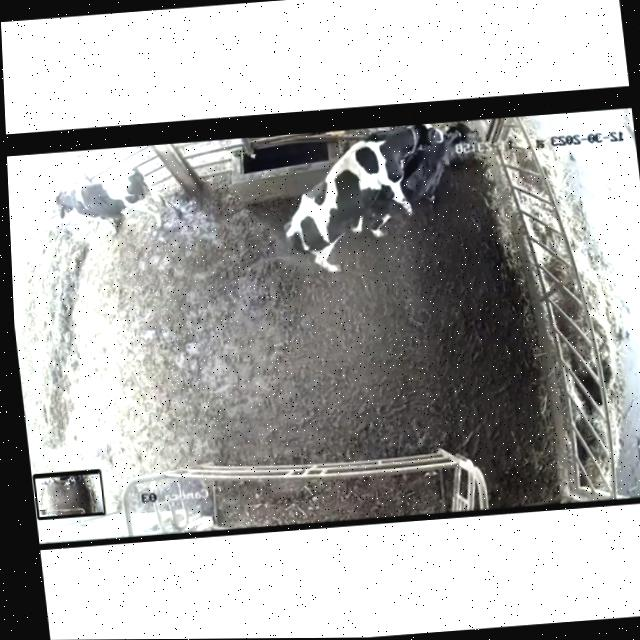ride: (258, 122, 460, 292)
